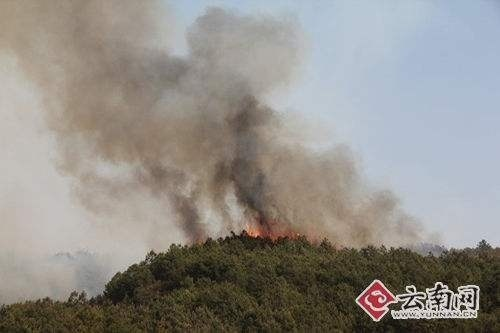fire: (239, 216, 307, 241)
